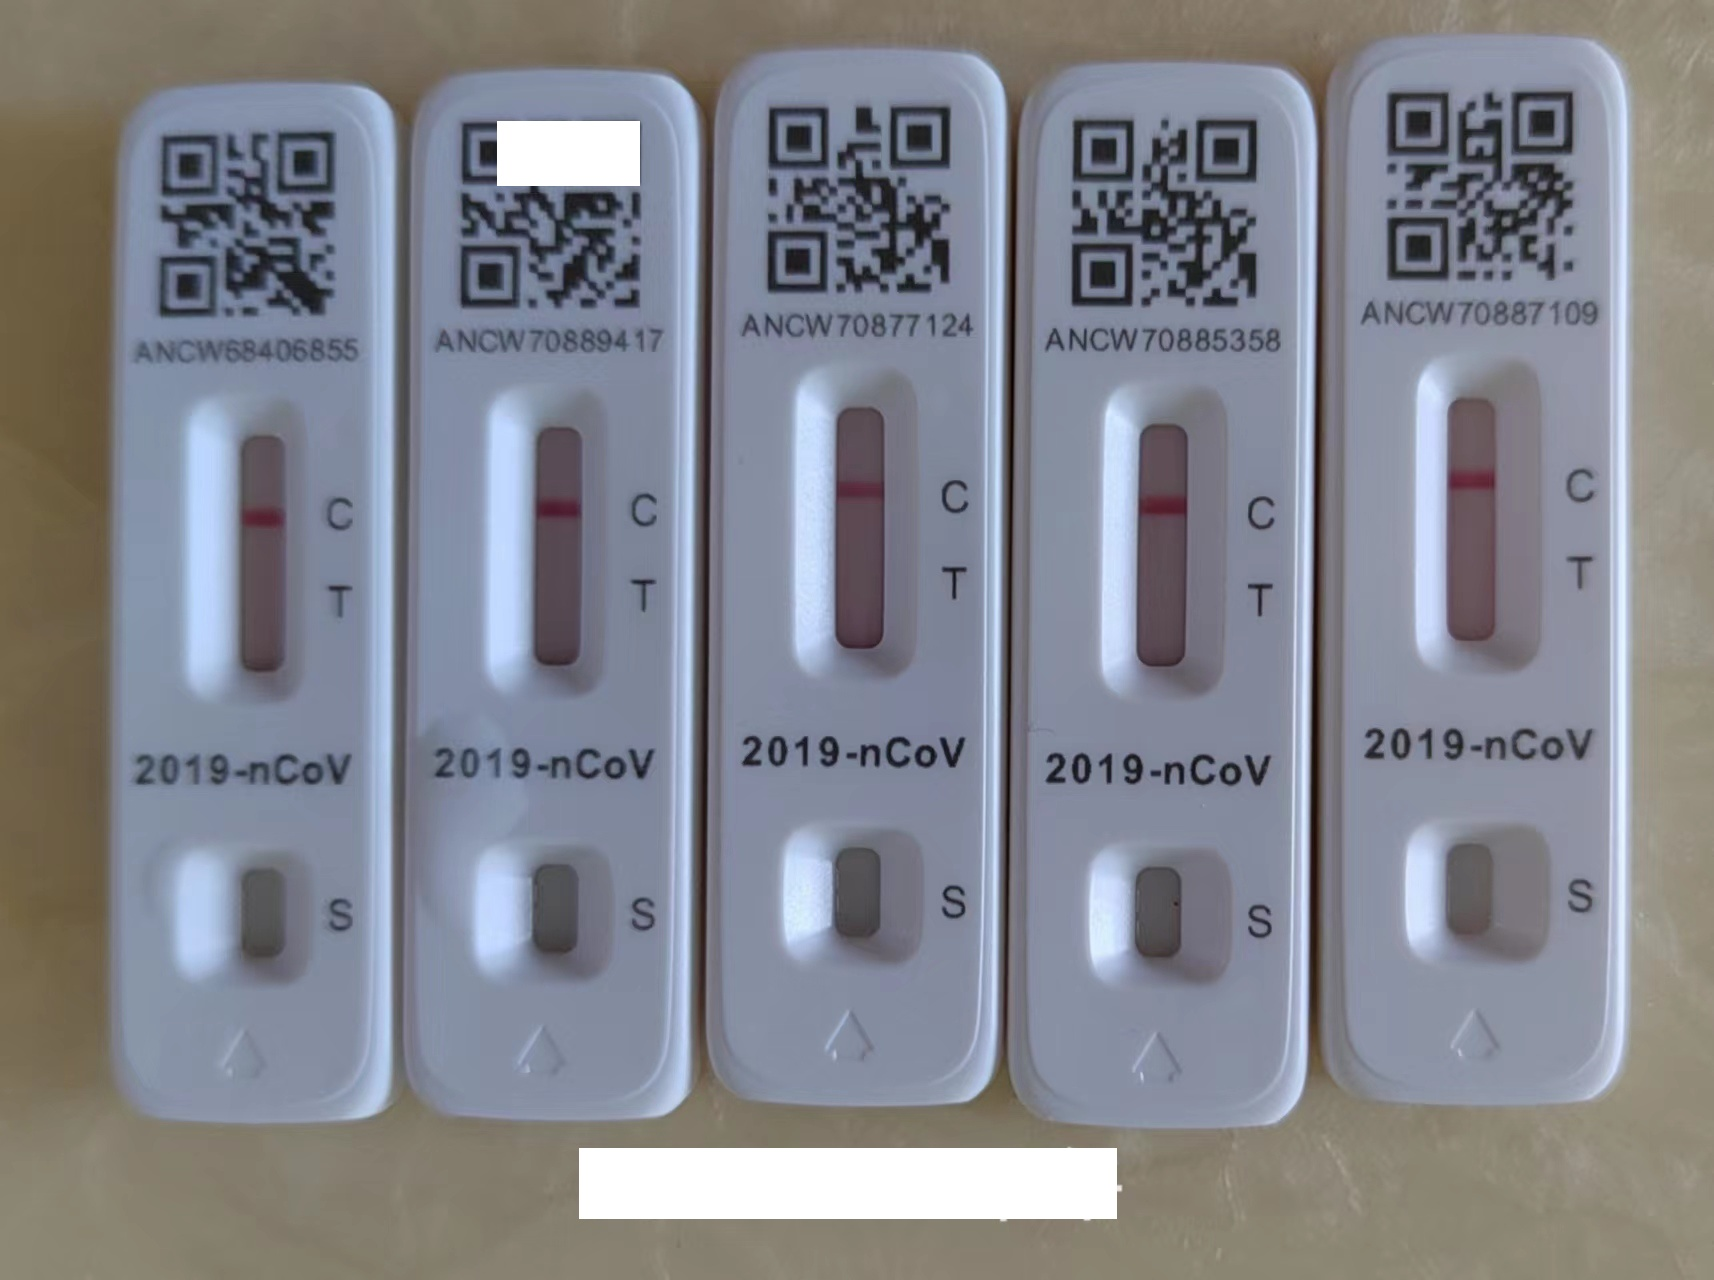negative: (1421, 358, 1542, 690), (1105, 381, 1222, 709), (805, 372, 915, 699), (501, 393, 605, 702), (215, 402, 301, 710)
